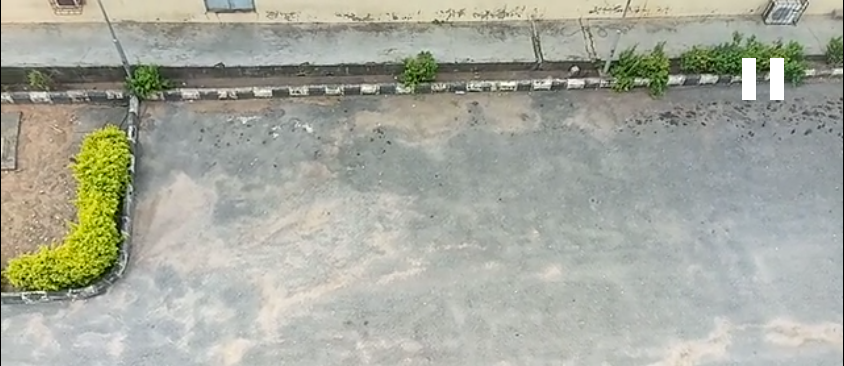one: (107, 70, 248, 292)
three: (490, 54, 616, 286)
two: (303, 62, 437, 283)
